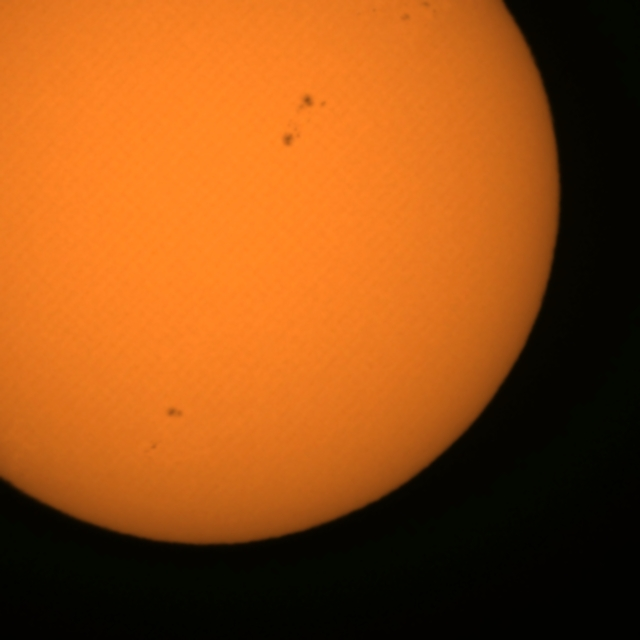sunspot: (398, 1, 439, 26), (296, 92, 328, 113), (279, 127, 304, 150), (418, 0, 439, 18), (164, 405, 186, 421), (142, 440, 160, 455), (398, 10, 413, 25)
